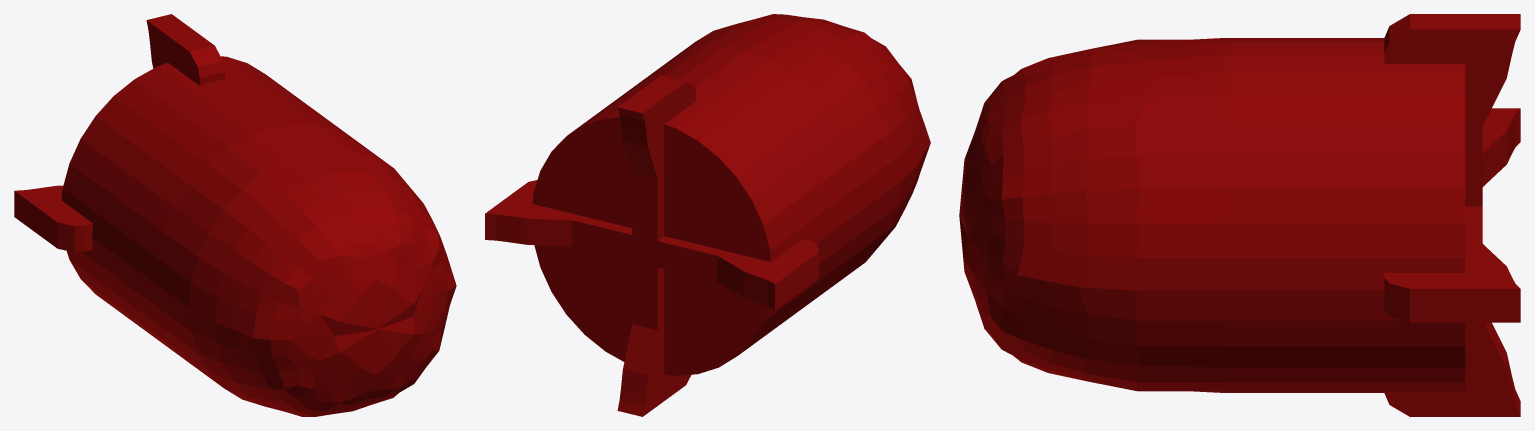
The model's file is Torpedo.glb.
3 views of the same model, side by side, from view 1: azimuth 30°, elevation 25°; view 2: azimuth 150°, elevation 25°; view 3: azimuth 270°, elevation 25° (orthographic). The views are drawn at different scales.
Visible parts, largest first — view 1: Cylinder; view 2: Cylinder; view 3: Cylinder.
Boxes of the visible parts, box(x1,y1,x2,y2) form: Cylinder: box(14, 14, 456, 416); Cylinder: box(485, 14, 930, 416); Cylinder: box(959, 14, 1520, 416).
Bounding box in the file's own units: 2.4 × 2.4 × 3.16.
